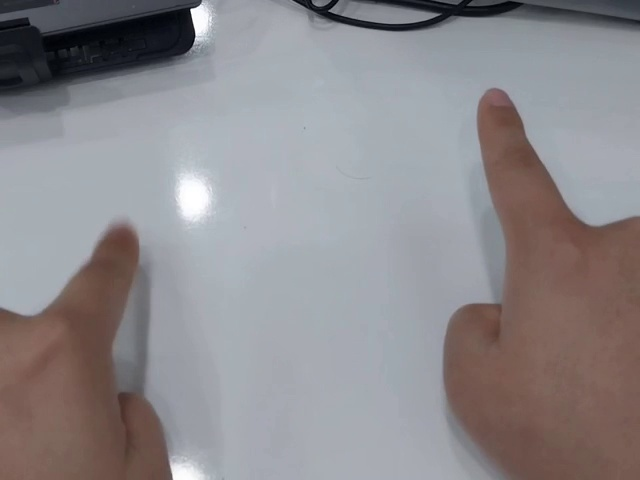fingers: (91, 221, 141, 269), (475, 86, 524, 128)
